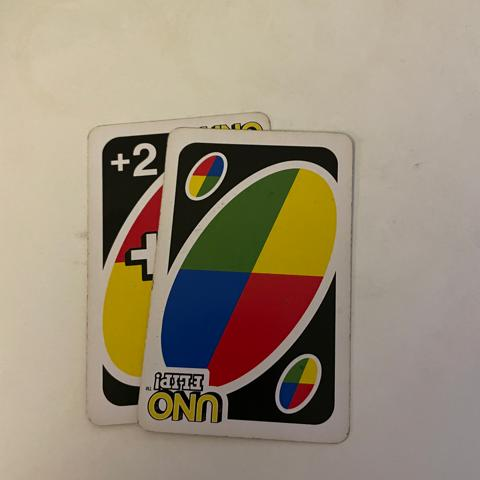lcolor-40: (177, 139, 229, 202)
lcolor2-50: (97, 135, 161, 184)
